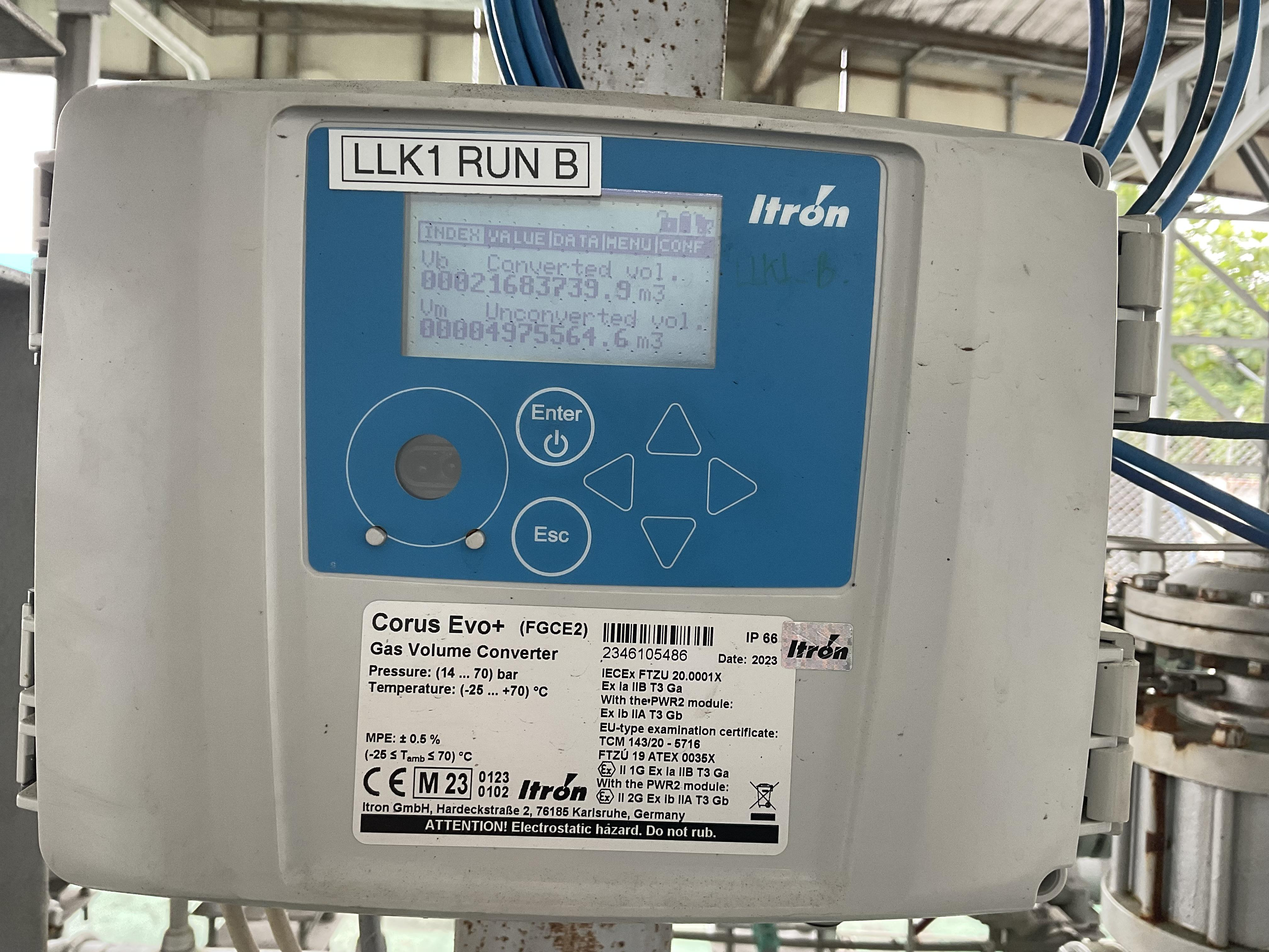digital_screen: (401, 182, 723, 369)
